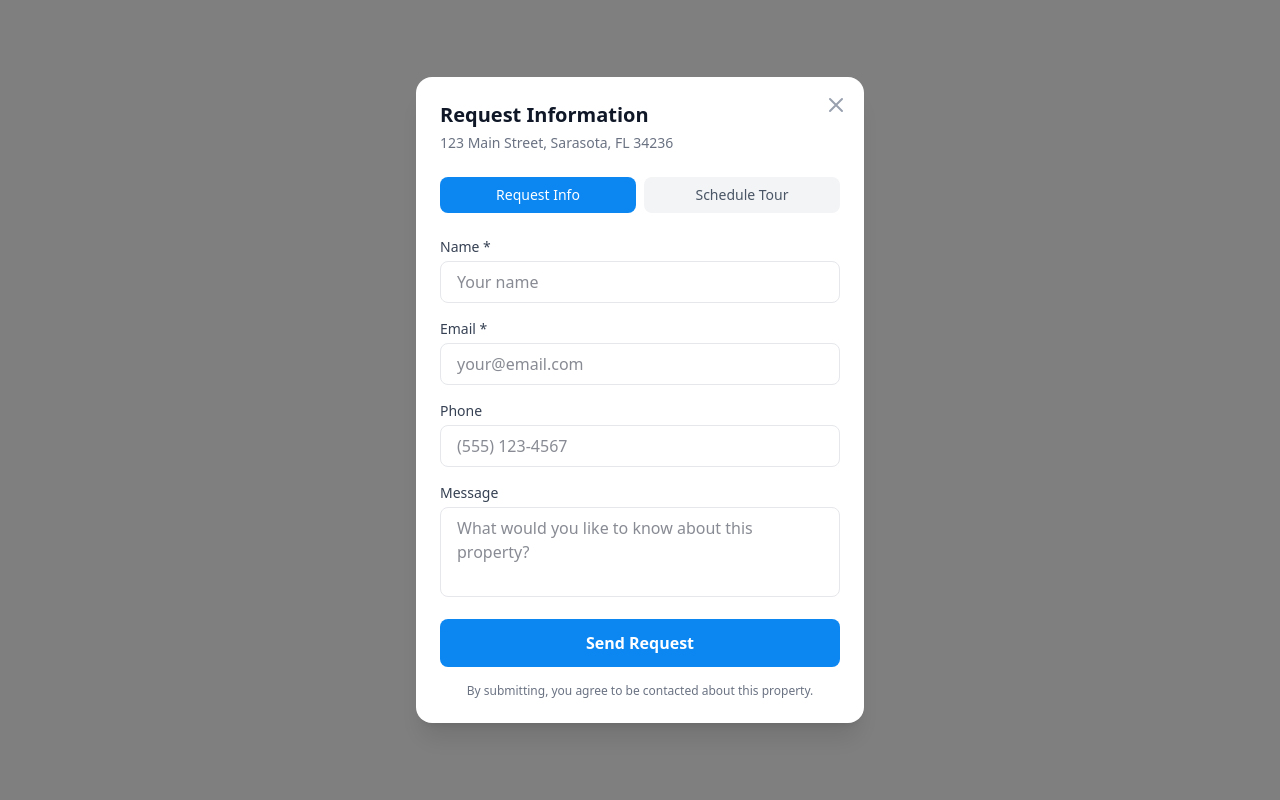
it: LeadCaptureModal › toggles between Request Info and Schedule Tour
Expected: the heading "Request Information" is shown, [440,101,649,128]
Note: Click Schedule Tour button
Click the button "Schedule Tour": (742, 195) [644,177,840,213]
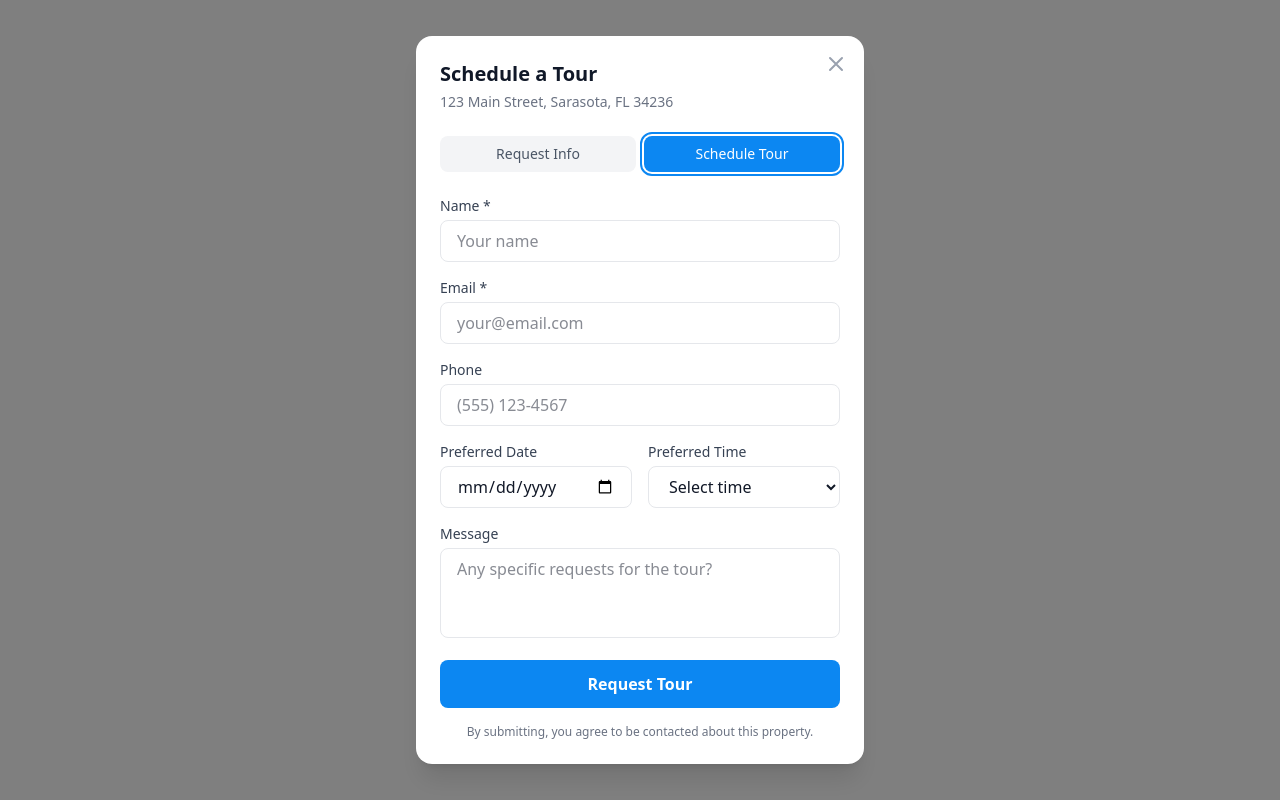
Now the heading "Schedule a Tour" is shown, box [440,60,597,87]
Now the date field labelled "Preferred Date" is shown, box [440,466,632,508]
Now the dropdown labelled "Preferred Time" is shown, box [648,466,840,508]
